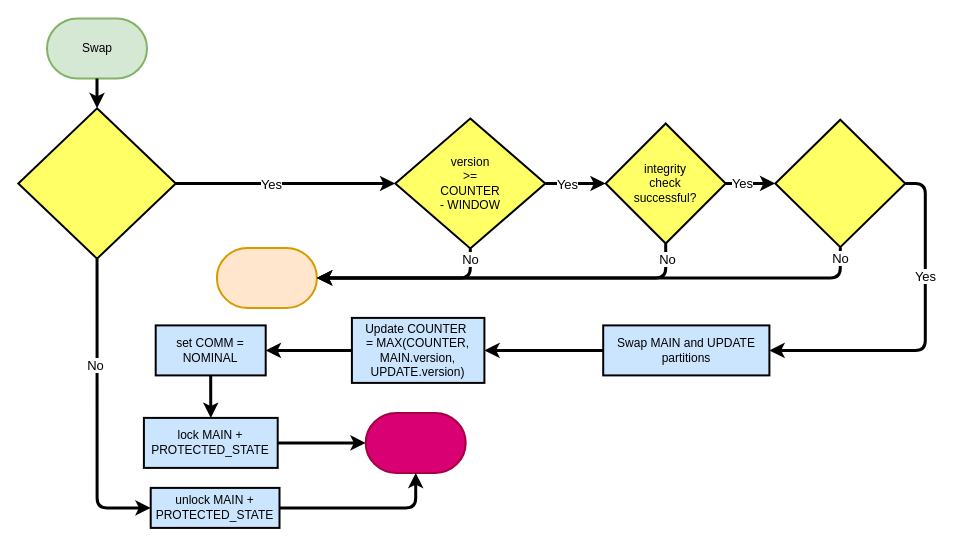
Image size: 953x546. Some labels were removed from this diagram. The centre of each missing label's shape, as x and y in pixels:
"digital signature check successful?" belongs at pixel 840 183.
"MAIN unlocked && PROTECTED_STATE unlocked" belongs at pixel 96 183.
"System Reset" belongs at pixel 415 442.
"Wait for TC" belongs at pixel 266 277.
